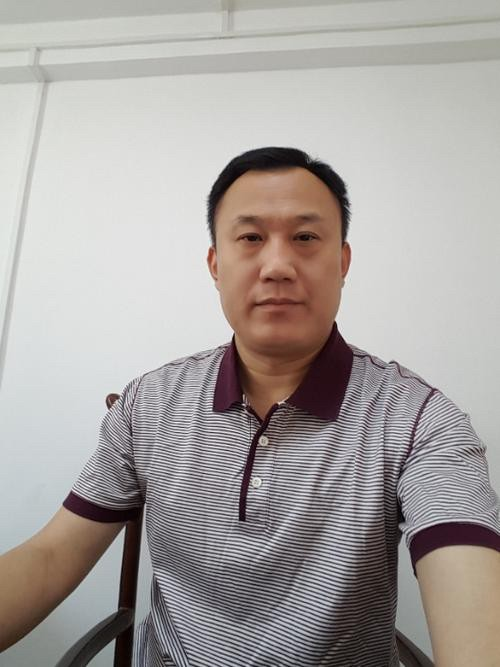people: (158, 146, 377, 667)
